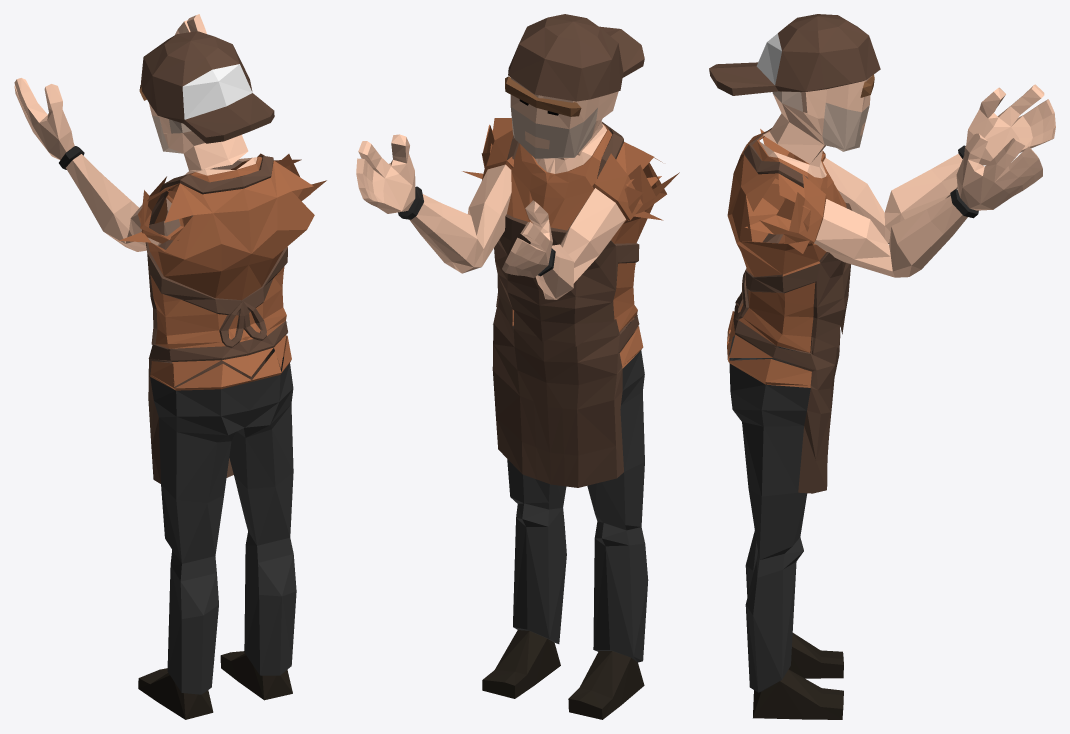
The model's file is Uncle_Dancing.obj.
3 renders of one model, left to right at view 1: azimuth 30°, elevation 25°; view 2: azimuth 150°, elevation 25°; view 3: azimuth 270°, elevation 25°, orthographic. The views are drawn at different scales.
Visible parts, largest first — view 1: Uncle_Dancing; view 2: Uncle_Dancing; view 3: Uncle_Dancing.
Part boxes in pixels (box(x1,y1,x2,y2)): Uncle_Dancing: box(14, 14, 326, 719); Uncle_Dancing: box(356, 14, 679, 719); Uncle_Dancing: box(709, 14, 1055, 719).
Size of the model in its own units: 0.5658 by 1.81 by 0.854.
1 material, 1 textured.
